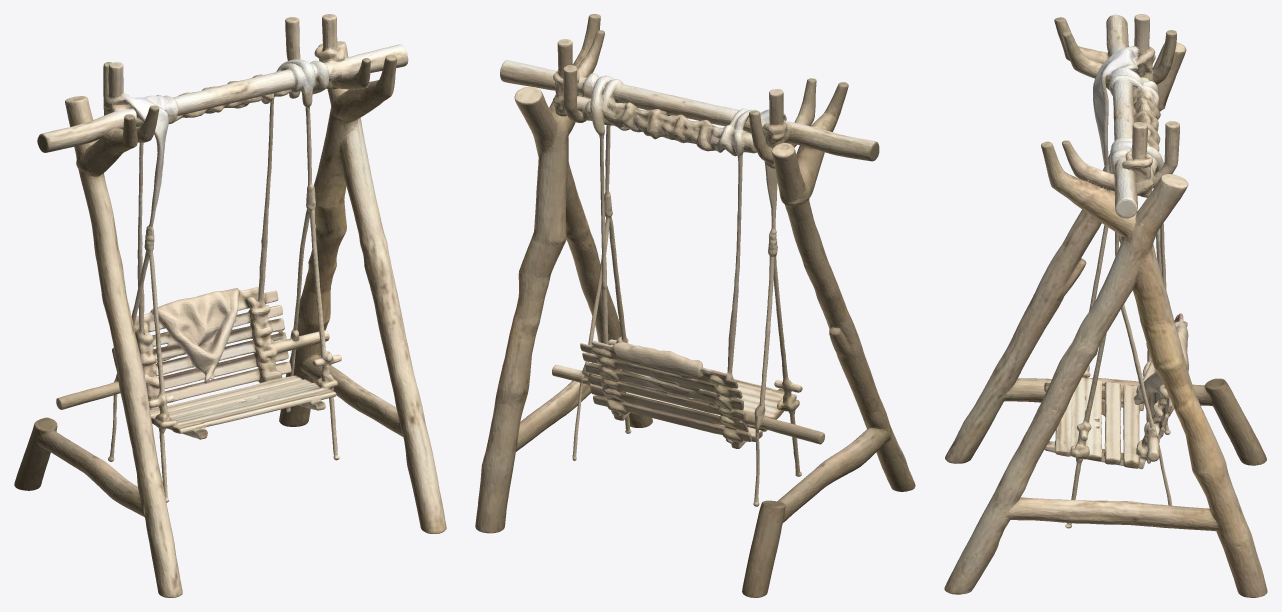
File: fen_fish_rack_01.glb
3 views of the same model, side by side, from view 1: azimuth 30°, elevation 25°; view 2: azimuth 150°, elevation 25°; view 3: azimuth 270°, elevation 25° (orthographic).
Visible parts, largest first — view 1: geometry_0; view 2: geometry_0; view 3: geometry_0.
Part boxes in pixels (bbox=[...]): geometry_0: bbox=[14, 14, 446, 597]; geometry_0: bbox=[475, 14, 915, 597]; geometry_0: bbox=[944, 14, 1267, 597].
Bounding box in the file's own units: 0.8453 × 1 × 0.6354.
1 material, 1 textured.
